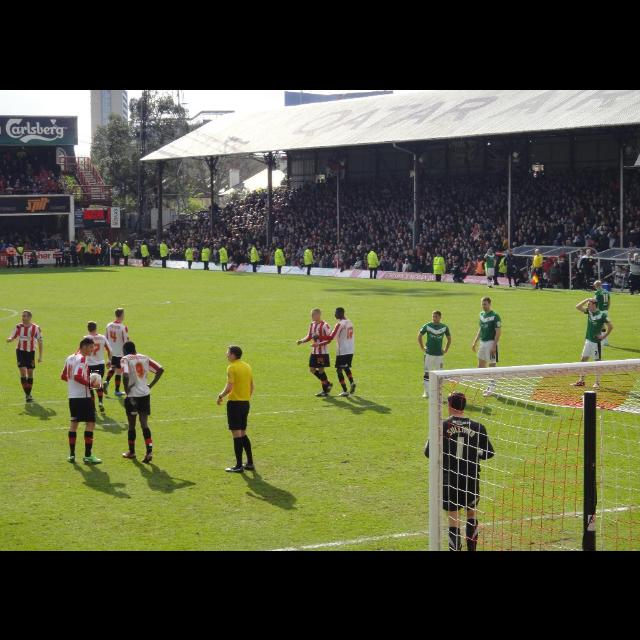Football: (89, 371, 101, 389)
